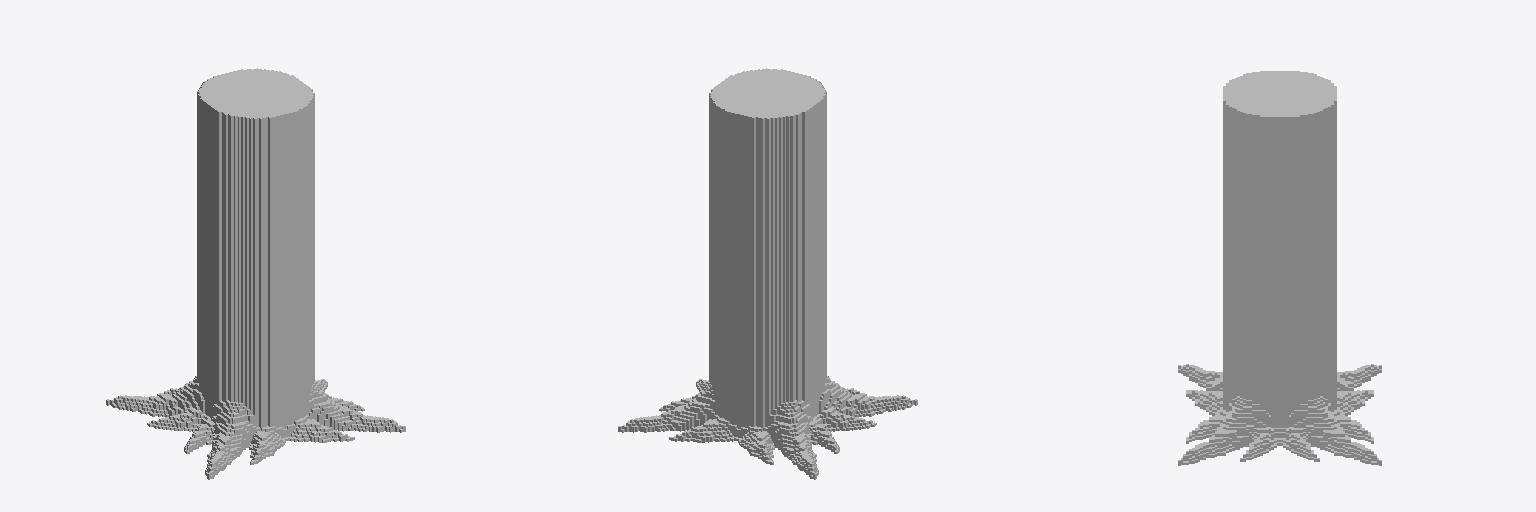
File: tree.obj
The picture shows the model from 3 angles: view 1: azimuth 30°, elevation 25°; view 2: azimuth 150°, elevation 25°; view 3: azimuth 270°, elevation 25°; orthographic projection.
Visible parts, largest first — view 1: object 1; view 2: object 1; view 3: object 1.
Part boxes in pixels (x1,y1,x2,y2): object 1: (106, 68, 405, 479); object 1: (618, 68, 917, 479); object 1: (1178, 71, 1381, 465).
Size of the model in its own units: 8 by 12.6 by 7.2.